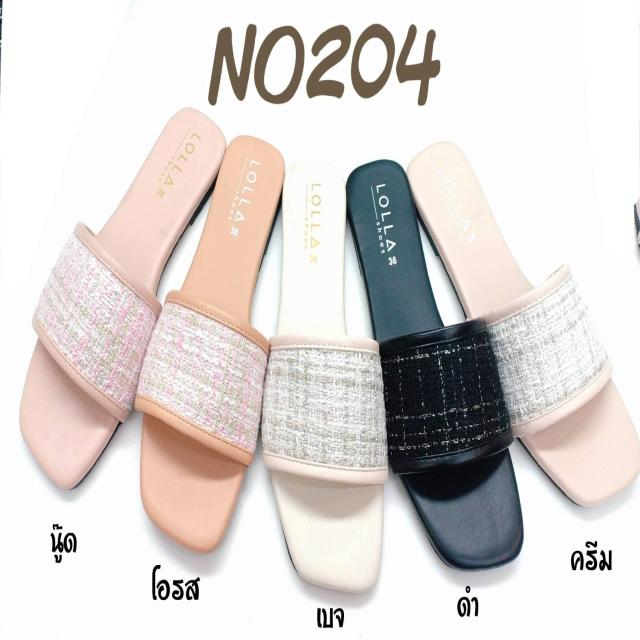bej: (264, 162, 388, 593)
black: (339, 155, 524, 568)
cream: (401, 145, 640, 515)
nood: (0, 109, 226, 518)
orot: (128, 142, 280, 564)
